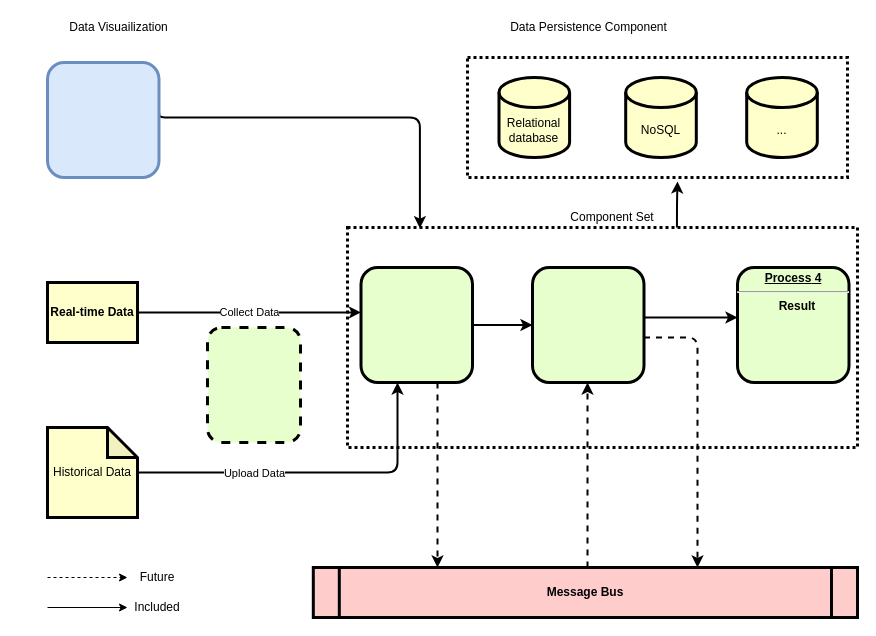
The diagram is 876 pixels wide and 636 high, and some of its shapes have lost their labels. Each missing label, with the centre of its shape:
"Data Visualization Labeling Segmentation" belongs at point 103,119.
"Process 1 Lightweight protocol conversion Layer" belongs at point 254,385.
"Process 2 Data Preprocessing" belongs at point 416,325.
"Process 3 Modularized Solution" belongs at point 587,325.
